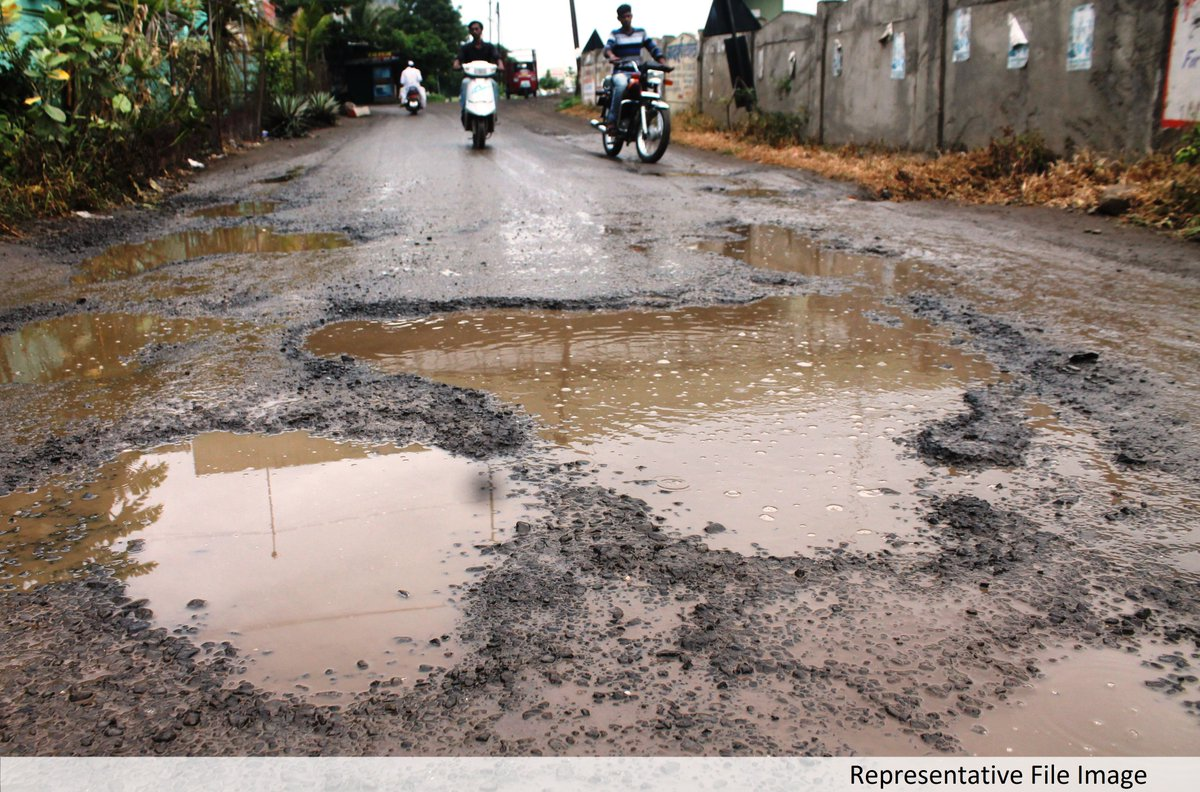pothole: (301, 275, 1126, 488), (28, 399, 519, 713), (69, 184, 384, 292), (693, 191, 901, 288)
